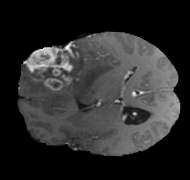Edema: (19, 41, 119, 117)
EnhancingTumors: (23, 43, 83, 83)
Necrosis: (28, 43, 83, 84)
